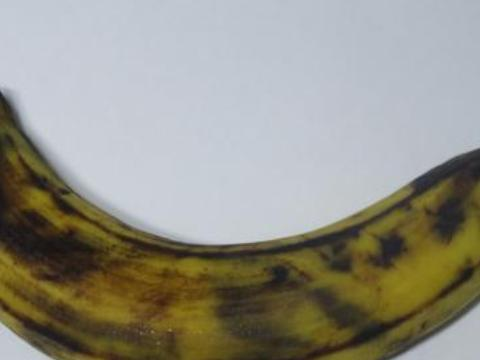overripe: (0, 70, 479, 359)
